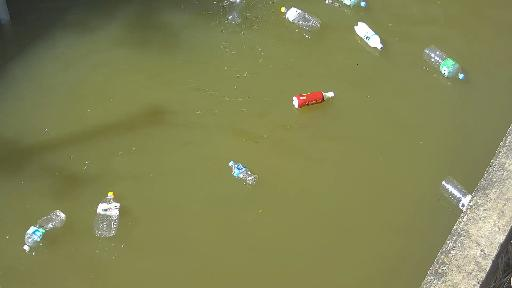plastic: (408, 40, 495, 87), (23, 203, 81, 258), (425, 161, 477, 221), (85, 181, 138, 232), (278, 5, 336, 39), (350, 18, 397, 52), (225, 144, 262, 182), (289, 89, 336, 112), (320, 0, 370, 15), (222, 0, 248, 27)
